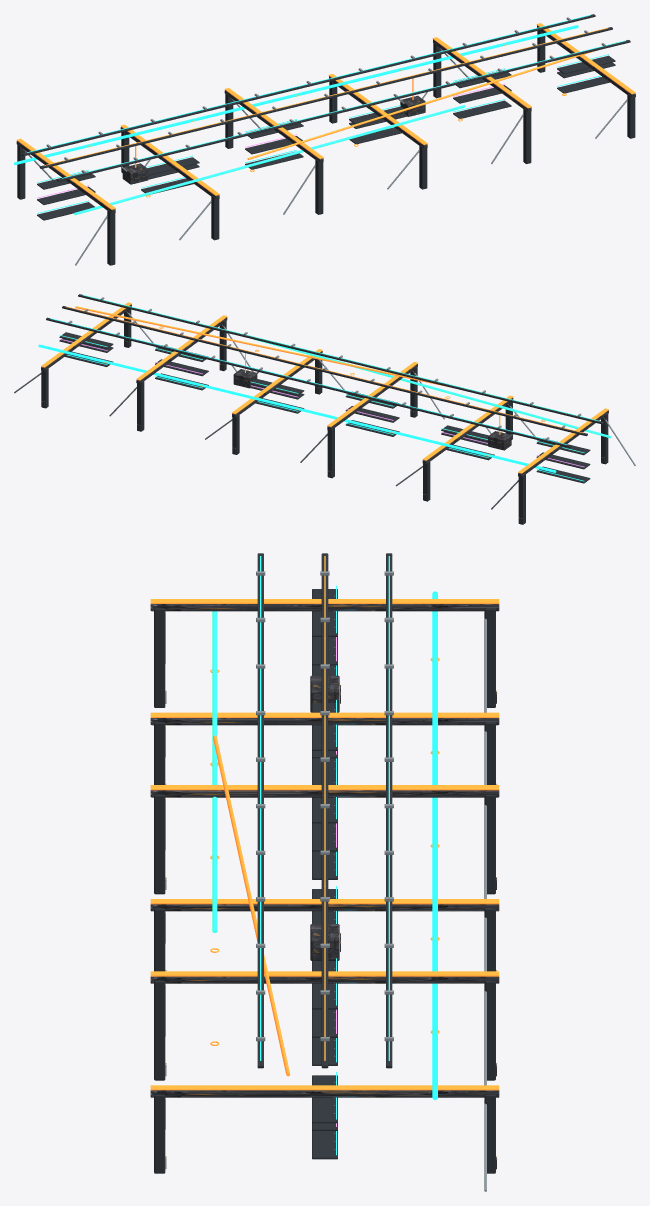
File: resonance_factory_spine.glb
The picture shows the model from 3 angles, top to bottom: view 1: azimuth 30°, elevation 25°; view 2: azimuth 150°, elevation 25°; view 3: azimuth 270°, elevation 25°; orthographic projection. The views are drawn at different scales.
Visible parts, largest first — view 1: SpinePipe/coolant_main, SpineTrack/0.0/support, SpineTrack/-7.0/support, SpineTrack/7.0/support, SpinePipe/reactor_return, SpinePipe/energy_feed, SpineTrack/0.0/glow, SpineTrack/-7.0/glow, SpineTrack/7.0/glow, Gantry/0/upper_track, Gantry/0/leg_18.0, Gantry/2/leg_18.0 (+28 smaller); view 2: SpinePipe/coolant_main, SpineTrack/-7.0/support, SpineTrack/7.0/support, SpineTrack/0.0/support, SpinePipe/energy_feed, SpinePipe/reactor_return, SpineTrack/-7.0/glow, SpineTrack/0.0/glow, SpineTrack/7.0/glow, Gantry/0/upper_track, Gantry/4/upper_track, Gantry/2/upper_track (+11 smaller); view 3: SpineTrack/0.0/support, SpineTrack/7.0/support, SpineTrack/-7.0/support, SpinePipe/coolant_main, Gantry/5/crossbeam, Gantry/0/crossbeam, Gantry/2/crossbeam, Gantry/4/crossbeam, Gantry/1/crossbeam, Gantry/3/crossbeam, Gantry/5/upper_track, Gantry/4/upper_track (+18 smaller).
Part boxes in pixels (left/top/right/bottom): SpinePipe/coolant_main: left=14, top=25, right=578, bottom=164; SpineTrack/0.0/support: left=39, top=27, right=612, bottom=168; SpineTrack/-7.0/support: left=22, top=14, right=595, bottom=156; SpineTrack/7.0/support: left=57, top=40, right=630, bottom=181; SpinePipe/reactor_return: left=74, top=105, right=465, bottom=215; SpinePipe/energy_feed: left=247, top=42, right=617, bottom=159; SpineTrack/0.0/glow: left=44, top=27, right=607, bottom=165; SpineTrack/-7.0/glow: left=27, top=15, right=590, bottom=152; SpineTrack/7.0/glow: left=62, top=40, right=625, bottom=178; Gantry/0/upper_track: left=16, top=138, right=115, bottom=209; Gantry/0/leg_18.0: left=107, top=209, right=115, bottom=265; Gantry/2/leg_18.0: left=315, top=159, right=323, bottom=214; SpinePipe/coolant_main: left=38, top=344, right=556, bottom=472; SpineTrack/-7.0/support: left=46, top=317, right=571, bottom=447; SpineTrack/7.0/support: left=78, top=294, right=603, bottom=424; SpineTrack/0.0/support: left=62, top=306, right=587, bottom=436; SpinePipe/energy_feed: left=75, top=306, right=447, bottom=386; SpinePipe/reactor_return: left=253, top=339, right=611, bottom=438; SpineTrack/-7.0/glow: left=50, top=318, right=567, bottom=444; SpineTrack/0.0/glow: left=66, top=306, right=583, bottom=432; SpineTrack/7.0/glow: left=83, top=295, right=599, bottom=421; Gantry/0/upper_track: left=518, top=408, right=608, bottom=473; Gantry/4/upper_track: left=136, top=315, right=227, bottom=380; Gantry/2/upper_track: left=327, top=362, right=417, bottom=426; SpineTrack/0.0/support: left=321, top=553, right=328, bottom=1068; SpineTrack/7.0/support: left=257, top=553, right=263, bottom=1068; SpineTrack/-7.0/support: left=386, top=553, right=392, bottom=1068; SpinePipe/coolant_main: left=432, top=591, right=437, bottom=1099; Gantry/5/crossbeam: left=150, top=1090, right=499, bottom=1097; Gantry/0/crossbeam: left=150, top=604, right=499, bottom=611; Gantry/2/crossbeam: left=150, top=790, right=499, bottom=797; Gantry/4/crossbeam: left=150, top=976, right=499, bottom=983; Gantry/1/crossbeam: left=150, top=718, right=499, bottom=725; Gantry/3/crossbeam: left=150, top=904, right=499, bottom=911; Gantry/5/upper_track: left=150, top=1085, right=499, bottom=1090; Gantry/4/upper_track: left=150, top=971, right=499, bottom=976.
Size of the model in its own units: 136 by 16.2 by 38.
Materials: 7 (1 with a texture image).
